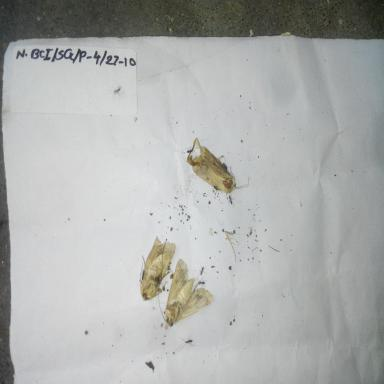abw: (180, 132, 255, 201), (157, 255, 215, 330), (136, 229, 178, 304)
